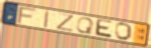E: (94, 18, 115, 40)
F: (16, 6, 38, 25)
I: (43, 10, 50, 30)
O: (114, 22, 133, 41)
Q: (75, 17, 95, 35)
Z: (55, 12, 76, 33)
